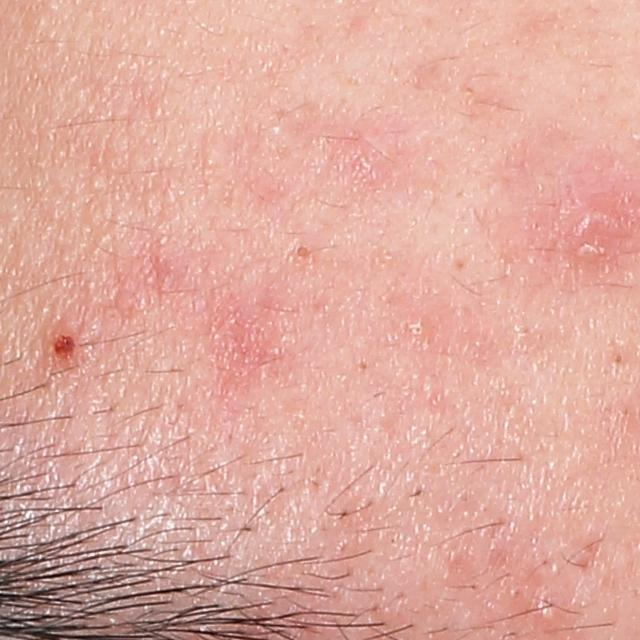comedo: (292, 243, 311, 263), (354, 358, 372, 374), (614, 352, 626, 366)
other: (46, 327, 85, 360)
